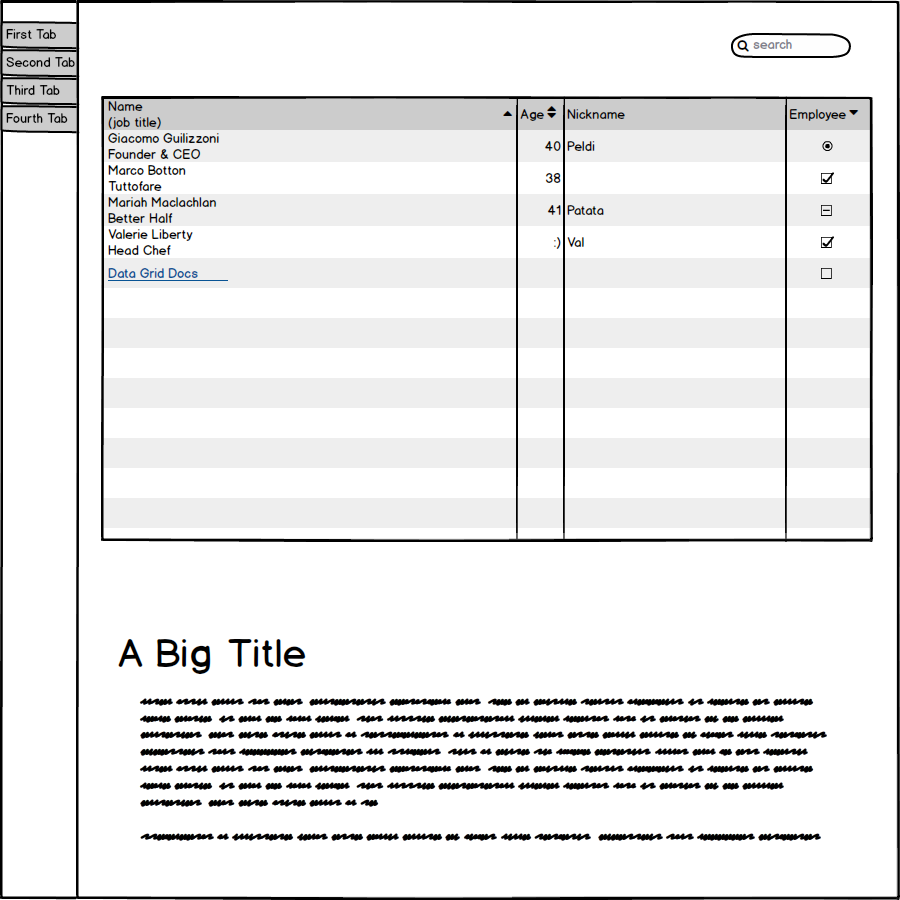h1: (107, 622, 309, 681)
p: (135, 692, 833, 852)
search: (728, 28, 856, 63)
sidebar: (1, 15, 83, 140)
table: (94, 89, 882, 547)
